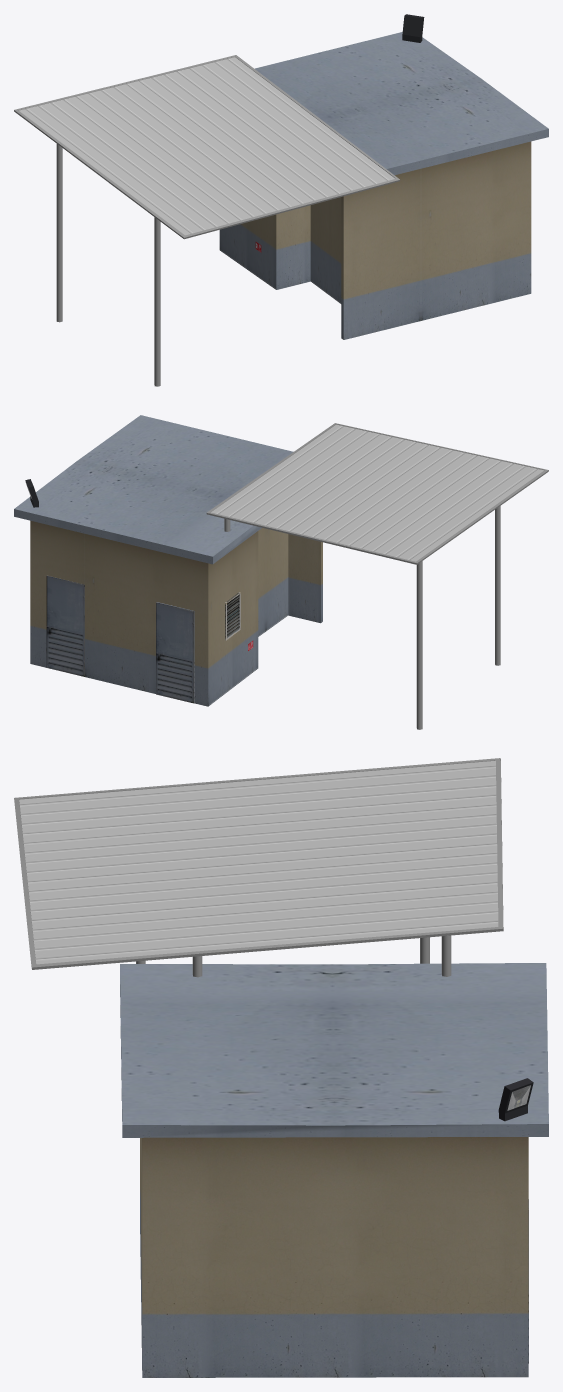
Rendered from CK-gongjufang02-JZ.FBX.
3 renders of one model, top to bottom at view 1: azimuth 30°, elevation 25°; view 2: azimuth 150°, elevation 25°; view 3: azimuth 270°, elevation 25°, orthographic. The views are drawn at different scales.
Parts seen in each view (by area): view 1: CK-gongjufang02-JZ; view 2: CK-gongjufang02-JZ; view 3: CK-gongjufang02-JZ.
Part boxes in pixels (left/top/right/bottom): CK-gongjufang02-JZ: left=14, top=14, right=548, bottom=386; CK-gongjufang02-JZ: left=14, top=415, right=548, bottom=729; CK-gongjufang02-JZ: left=14, top=758, right=548, bottom=1377.
Size of the model in its own units: 10.59 by 4.84 by 7.53.
Materials: 5 (4 with a texture image).
